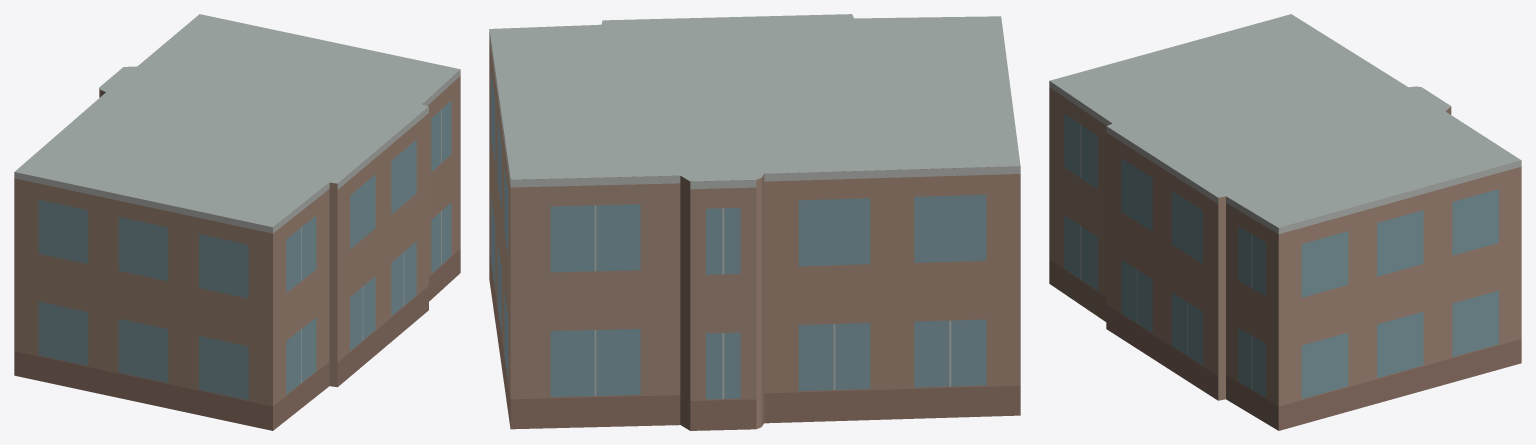
File: survey-upis-33040918.glb
3 views of the same model, side by side, from view 1: azimuth 30°, elevation 25°; view 2: azimuth 150°, elevation 25°; view 3: azimuth 270°, elevation 25° (orthographic). The views are drawn at different scales.
Visible parts, largest first — view 1: survey-upis-33040918.tmp; view 2: survey-upis-33040918.tmp; view 3: survey-upis-33040918.tmp.
Boxes of the visible parts, x1=… form: survey-upis-33040918.tmp: x1=14, y1=14, x2=460, y2=430; survey-upis-33040918.tmp: x1=489, y1=14, x2=1020, y2=430; survey-upis-33040918.tmp: x1=1049, y1=14, x2=1521, y2=430.
Size of the model in its own units: 17.65 by 7.8 by 16.46.
